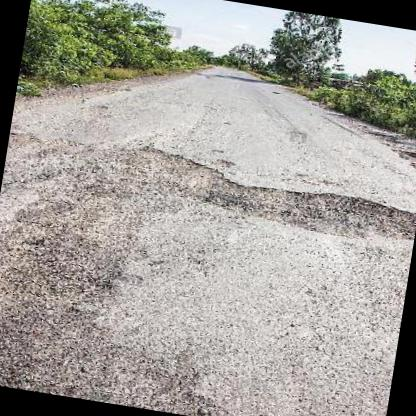pothole: (235, 177, 416, 249), (117, 138, 230, 210)
